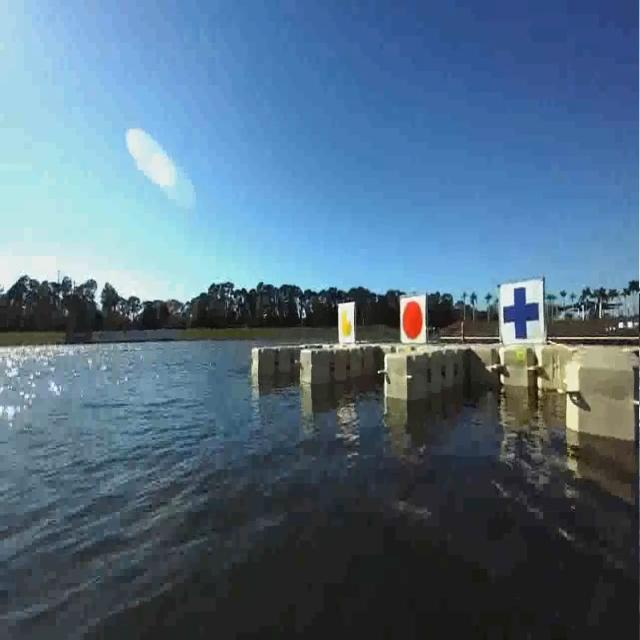blue-cross: (499, 280, 545, 349)
red-dot: (398, 286, 430, 350)
yellow-duck: (335, 294, 358, 349)
